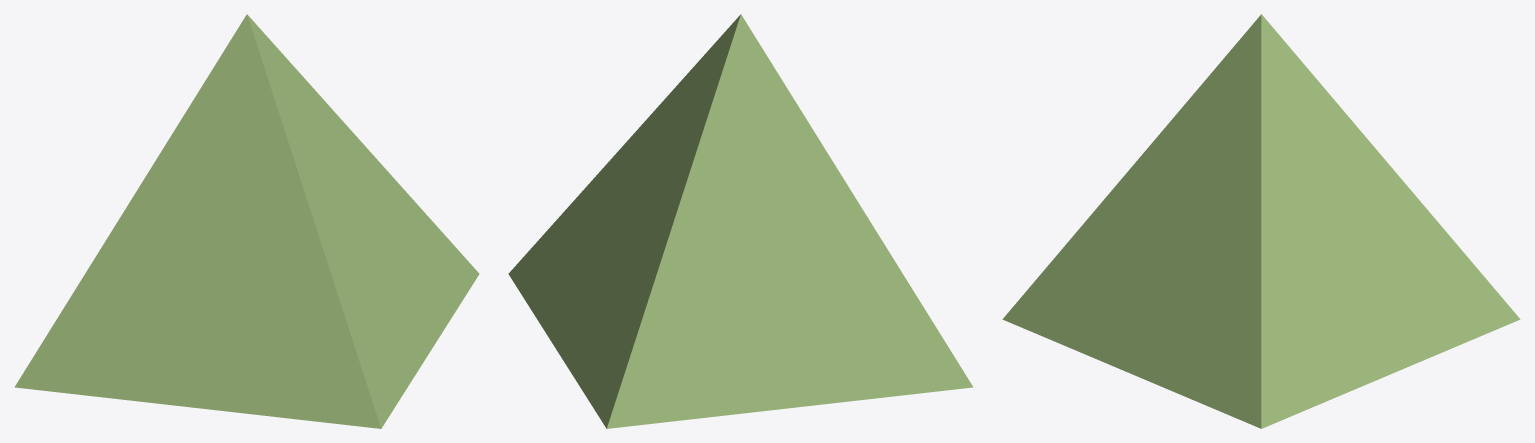
The picture shows the model from 3 angles, left to right: view 1: azimuth 30°, elevation 25°; view 2: azimuth 150°, elevation 25°; view 3: azimuth 270°, elevation 25°; orthographic projection. The views are drawn at different scales.
Parts seen in each view (by area): view 1: Cone.002; view 2: Cone.002; view 3: Cone.002.
Boxes of the visible parts, x1,y1,x2,y2 form: Cone.002: [15, 14, 479, 428]; Cone.002: [508, 14, 972, 428]; Cone.002: [1002, 14, 1520, 428].
Size of the model in its own units: 6 by 3.9 by 6.
